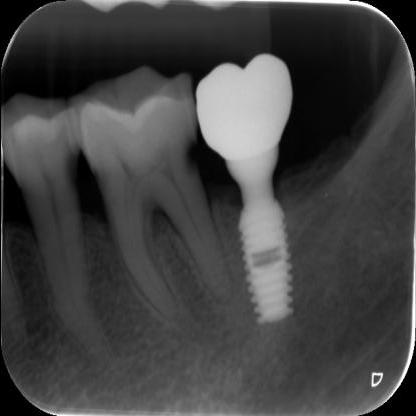Bicon: (231, 186, 305, 340)
